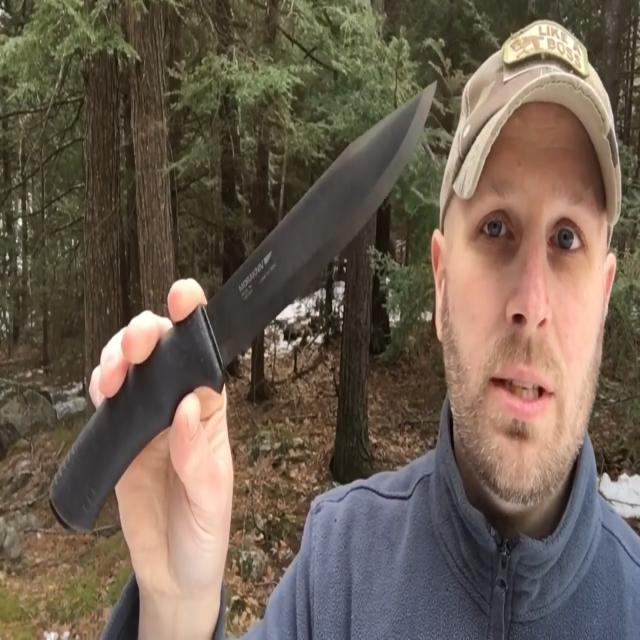knife: (43, 80, 448, 534)
